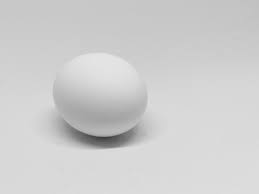eggs: (45, 40, 153, 135)
